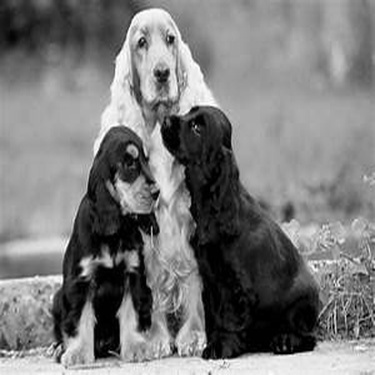dog: (73, 4, 246, 366), (147, 92, 333, 364), (23, 118, 170, 366)
